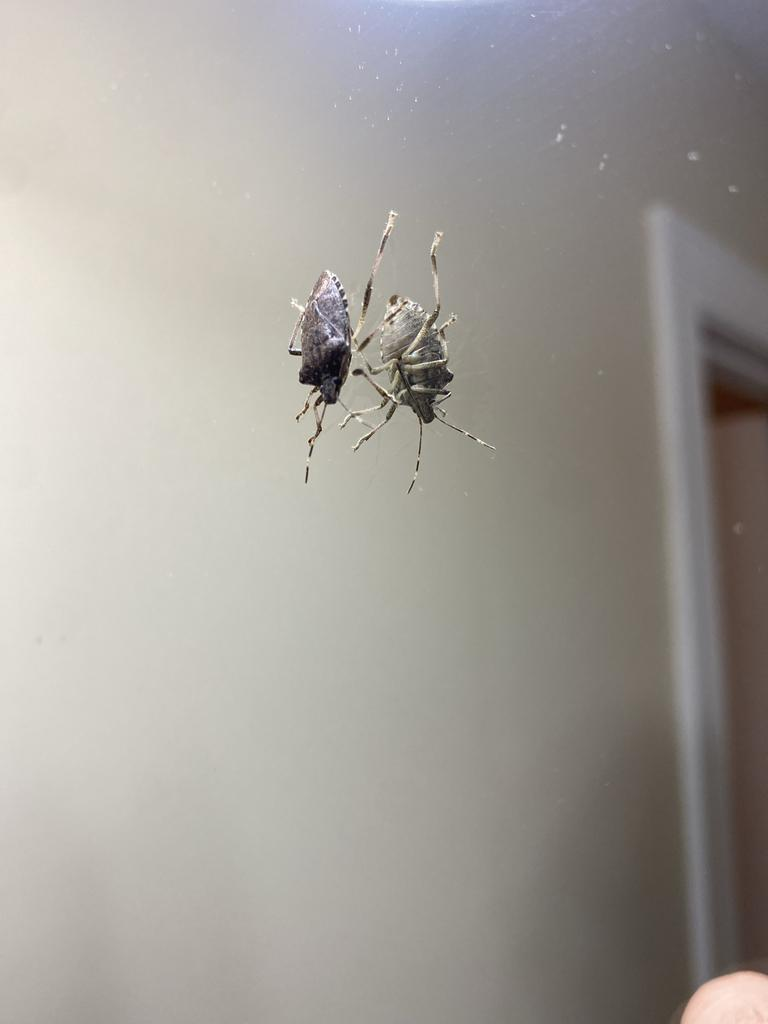stink_bugs: (350, 187, 513, 519), (244, 182, 409, 502)
